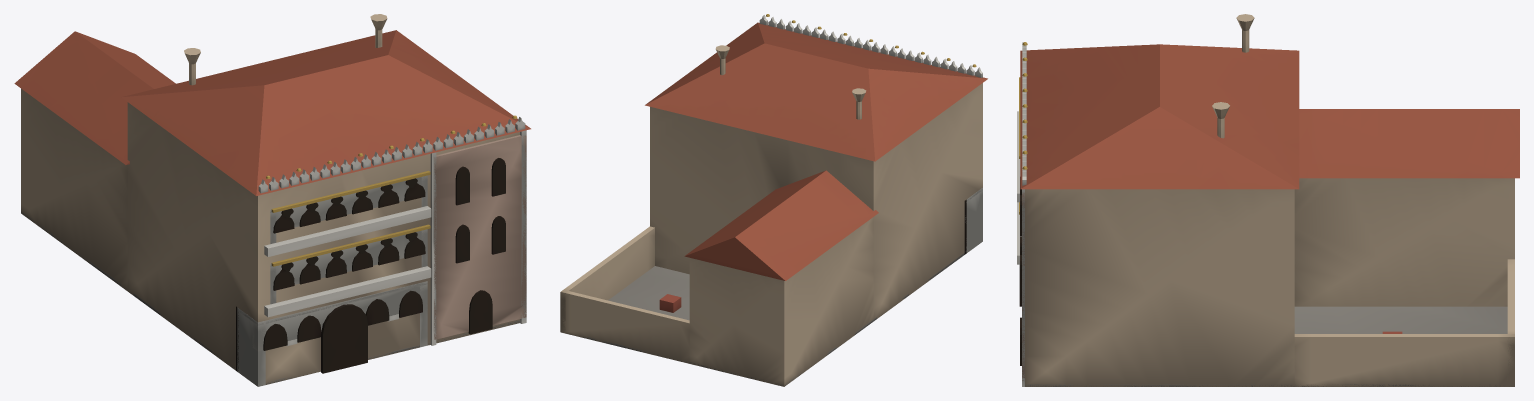
The model's file is ca-doro.glb.
3 renders of one model, left to right at view 1: azimuth 30°, elevation 25°; view 2: azimuth 150°, elevation 25°; view 3: azimuth 270°, elevation 25°, orthographic. The views are drawn at different scales.
Parts seen in each view (by area): view 1: p0_walls, p1_facade; view 2: p0_walls, p1_facade; view 3: p0_walls, p1_facade.
Part boxes in pixels (x1=…): p0_walls: x1=14, y1=14, x2=530, y2=384; p1_facade: x1=236, y1=115, x2=526, y2=386; p0_walls: x1=560, y1=22, x2=987, y2=386; p1_facade: x1=759, y1=14, x2=982, y2=254; p0_walls: x1=1020, y1=14, x2=1519, y2=386; p1_facade: x1=1017, y1=42, x2=1027, y2=386.
Bounding box in the file's own units: 26.8 × 23 × 41.05.
